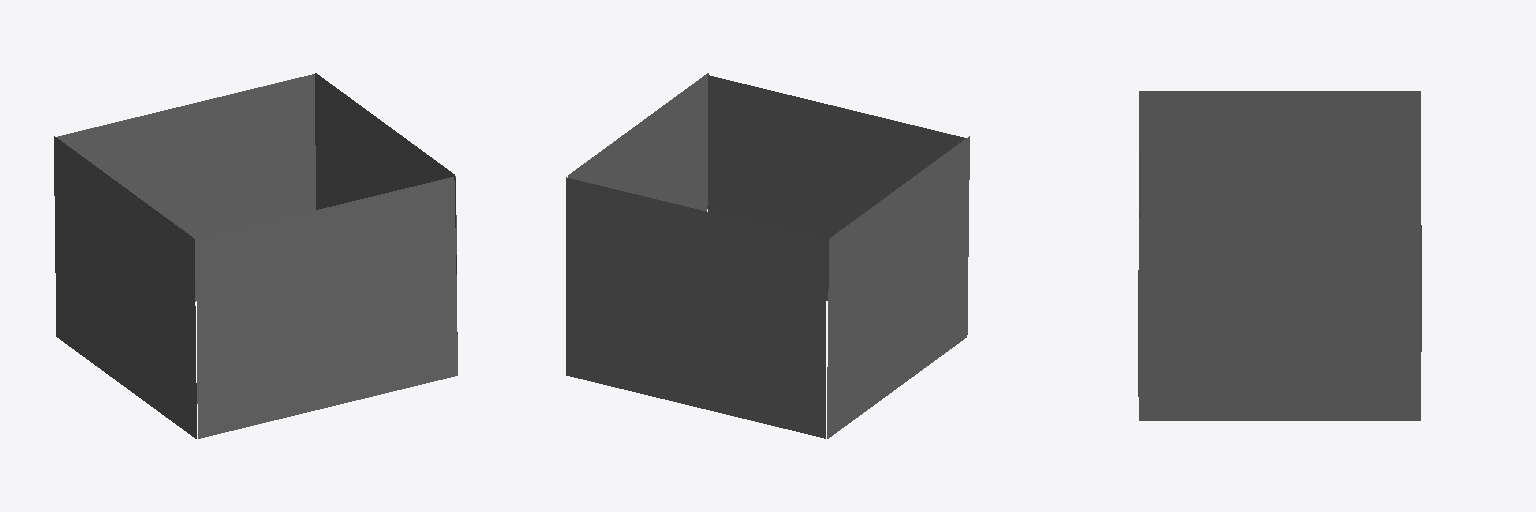
Rendered from cuartointerior.obj.
The picture shows the model from 3 angles: view 1: azimuth 30°, elevation 25°; view 2: azimuth 150°, elevation 25°; view 3: azimuth 270°, elevation 25°; orthographic projection.
Parts seen in each view (by area): view 1: pPlane8; view 2: pPlane8; view 3: pPlane8.
Part boxes in pixels (left/top/right/bottom): pPlane8: left=54, top=73, right=457, bottom=438; pPlane8: left=566, top=73, right=969, bottom=438; pPlane8: left=1138, top=91, right=1421, bottom=420.
Bounding box in the file's own units: 11.51 × 8.43 × 10.74.